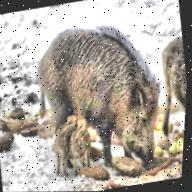boar: (15, 2, 177, 184), (63, 114, 101, 177), (42, 116, 78, 171)
